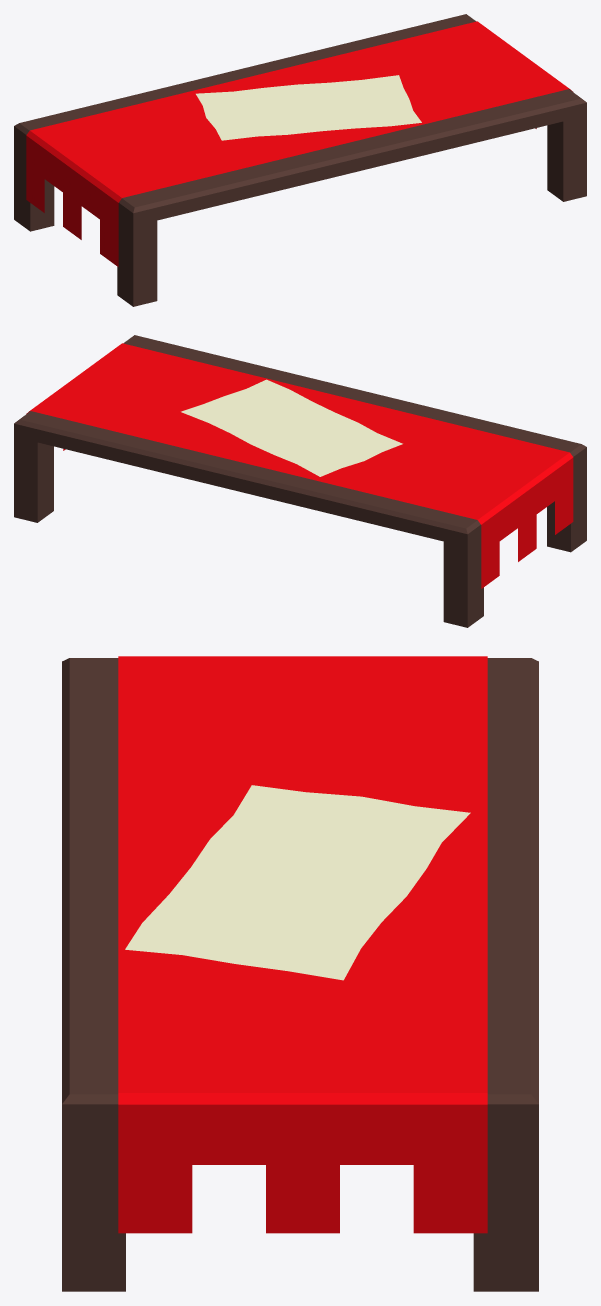
The model's file is analytics.glb.
3 renders of one model, top to bottom at view 1: azimuth 30°, elevation 25°; view 2: azimuth 150°, elevation 25°; view 3: azimuth 270°, elevation 25°, orthographic. The views are drawn at different scales.
Visible parts, largest first — view 1: analytics; view 2: analytics; view 3: analytics.
Part boxes in pixels (x1=…): analytics: x1=14, y1=14, x2=586, y2=306; analytics: x1=14, y1=335, x2=586, y2=627; analytics: x1=62, y1=656, x2=538, y2=1291.
Size of the model in its own units: 4.39 by 0.9059 by 1.99.
